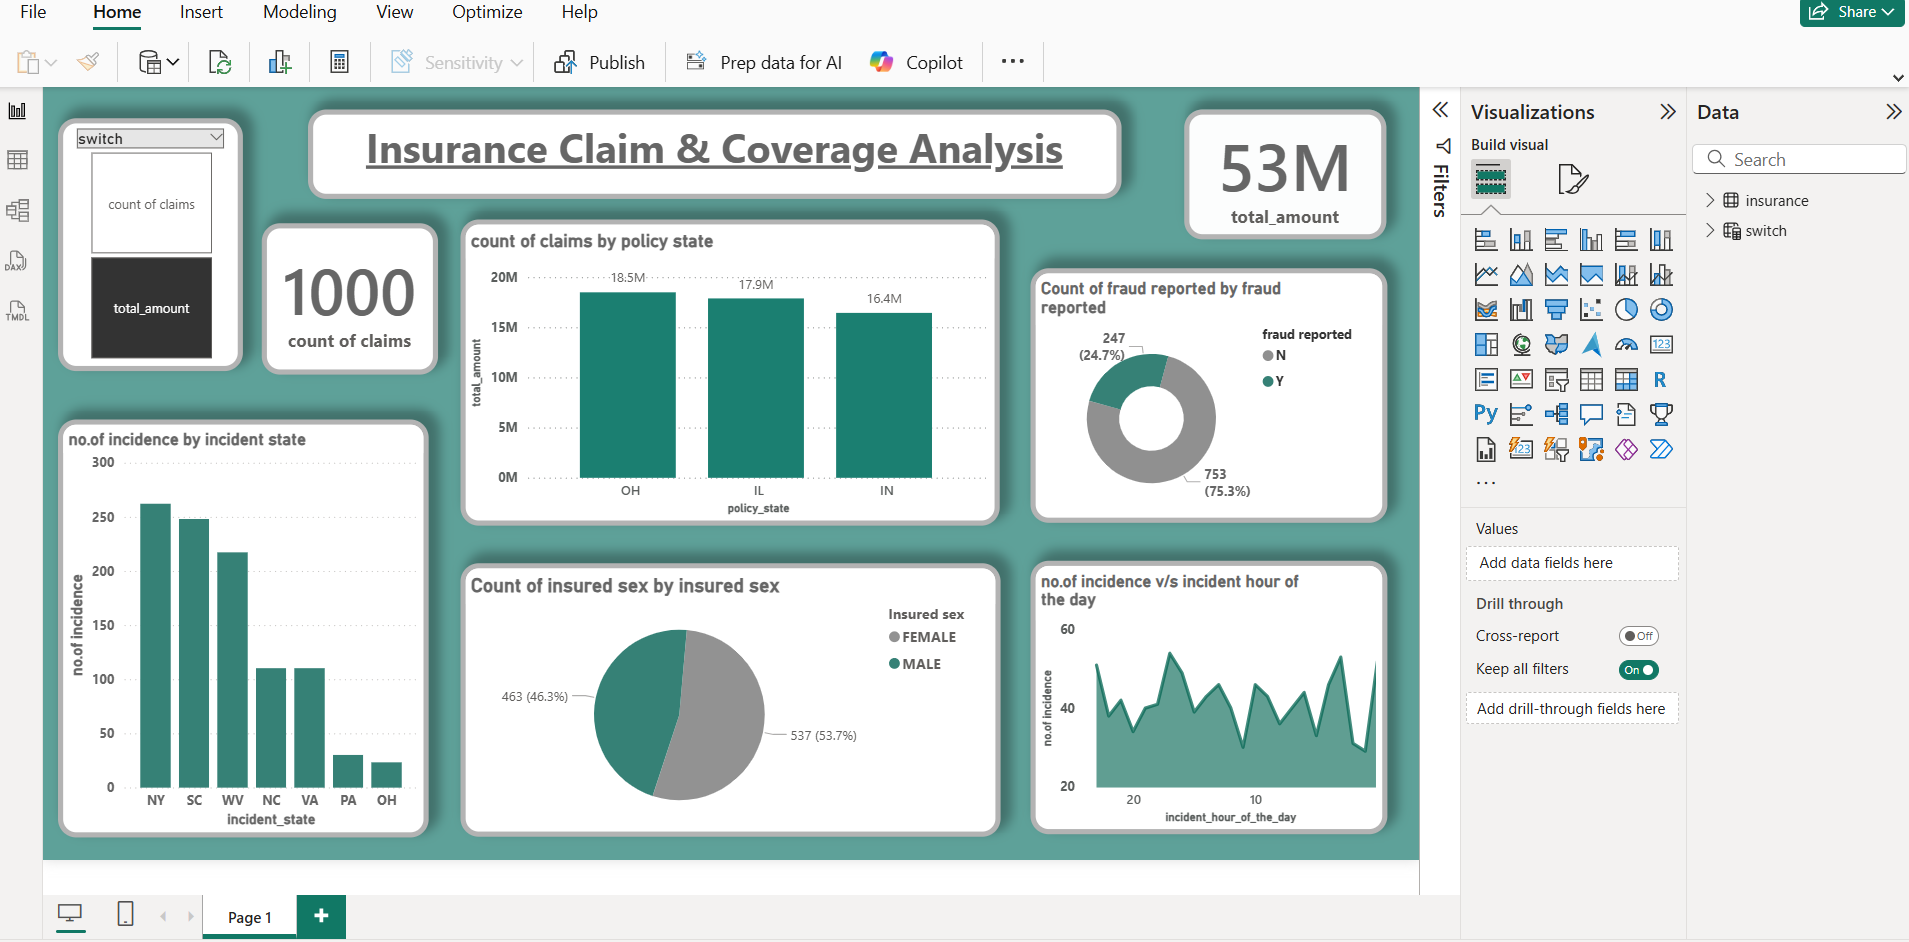

The page's visual inventory and layout, read from the dashboard file:
{"tool":"powerbi","page":{"name":"Page 1","canvas":[1280,720],"ordinal":0},"visuals":[{"type":"card","fields":{"Values":["insurance.count of claims"]},"box":[204,127,164,141],"z":0},{"type":"card","fields":{"Values":["insurance.total_amount"]},"box":[1061.7,20.5,188.2,120.6],"z":1000},{"type":"columnChart","title":"count of claims by policy state","fields":{"Y":["insurance.total_amount"],"Category":["insurance.policy_state"]},"box":[388.5,123.1,501.9,284.7],"z":2000},{"type":"slicer","fields":{"Values":["switch.switch"]},"box":[14,29,172,235],"z":3000},{"type":"donutChart","title":"Count of fraud reported by fraud reported","fields":{"Category":["insurance.fraud_reported"],"Y":["CountNonNull(insurance.fraud_reported)"]},"box":[918.1,168.9,331.8,237],"z":4000},{"type":"columnChart","title":"no.of incidence by incident state","fields":{"Y":["insurance.no.of incidence"],"Category":["insurance.incident_state"]},"box":[14.5,308.8,345,388.5],"z":5000},{"type":"pieChart","title":"Count of insured sex by insured sex","fields":{"Category":["insurance.insured_sex"],"Y":["CountNonNull(insurance.insured_sex)"]},"box":[388,442.8,502,254.6],"z":6000},{"type":"areaChart","title":"no.of incidence v/s incident hour of the day","fields":{"Category":["insurance.incident_hour_of_the_day"],"Y":["insurance.no.of incidence"]},"box":[919,441,331.8,254.6],"z":7000},{"type":"textbox","box":[246.1,20.5,756.4,83.2],"z":8000}]}

Visuals, with their boxes on the page's 1280x720 design canvas (x1, y1, x2, y2). These are canvas units, not pixel positions in the 1909x942 screenshot, which may show the page scaled, cropped or inside an application window:
card - insurance.count of claims: 204, 127, 368, 268
card - insurance.total_amount: 1062, 20, 1250, 141
"count of claims by policy state" columnChart: 388, 123, 890, 408
slicer - switch.switch: 14, 29, 186, 264
"Count of fraud reported by fraud reported" donutChart: 918, 169, 1250, 406
"no.of incidence by incident state" columnChart: 14, 309, 360, 697
"Count of insured sex by insured sex" pieChart: 388, 443, 890, 697
"no.of incidence v/s incident hour of the day" areaChart: 919, 441, 1251, 696
textbox: 246, 20, 1002, 104
